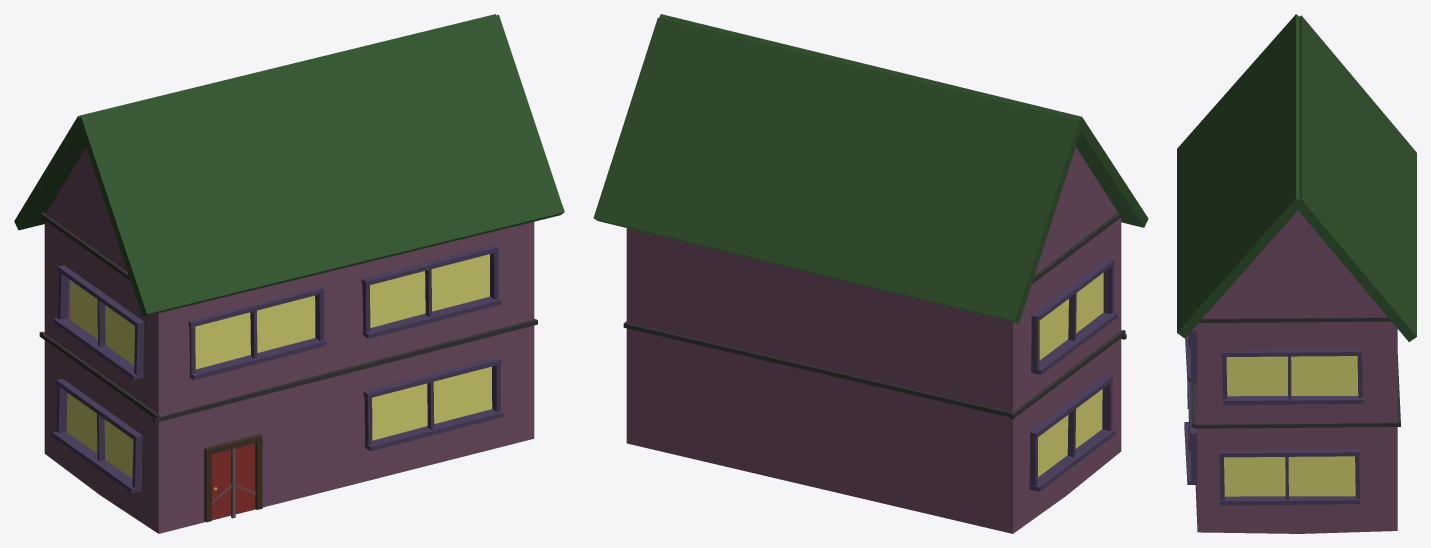
Rendered from House6.fbx.
3 renders of one model, left to right at view 1: azimuth 30°, elevation 25°; view 2: azimuth 150°, elevation 25°; view 3: azimuth 270°, elevation 25°, orthographic. The views are drawn at different scales.
Visible parts, largest first — view 1: Cube.005, Cube.001, Cube.058, Cube.055, Cube.054, Cube.004, Cube.009, Cube.043, Cube.012, Cube.042, Cube.050, Cube.045 (+10 smaller); view 2: Cube.001, Cube.004, Cube.005, Cube.015, Cube.042, Cube.043, Cube.020, Cube.032, Cube.031, Cube.019, Cube.016, Cube.017; view 3: Cube.001, Cube.005, Cube.004, Cube.040, Cube.041, Cube.024, Cube.028, Cube.023, Cube.027, Cube.014, Cube.018, Cube.045 (+1 smaller).
Boxes of the visible parts, left/top/right/bottom form: Cube.005: left=77, top=14, right=564, bottom=316; Cube.001: left=44, top=148, right=534, bottom=533; Cube.058: left=195, top=295, right=315, bottom=369; Cube.055: left=372, top=366, right=492, bottom=440; Cube.054: left=370, top=254, right=489, bottom=327; Cube.004: left=14, top=14, right=495, bottom=230; Cube.009: left=212, top=443, right=255, bottom=519; Cube.043: left=66, top=393, right=133, bottom=478; Cube.012: left=153, top=319, right=537, bottom=422; Cube.042: left=70, top=280, right=134, bottom=365; Cube.050: left=362, top=296, right=501, bottom=338; Cube.045: left=364, top=409, right=503, bottom=451; Cube.001: left=626, top=147, right=1121, bottom=533; Cube.004: left=593, top=18, right=1081, bottom=323; Cube.005: left=659, top=14, right=1148, bottom=227; Cube.015: left=624, top=322, right=1011, bottom=417; Cube.042: left=1039, top=273, right=1103, bottom=359; Cube.043: left=1038, top=389, right=1102, bottom=476; Cube.020: left=1029, top=429, right=1115, bottom=491; Cube.032: left=1031, top=312, right=1117, bottom=374; Cube.031: left=1031, top=258, right=1114, bottom=321; Cube.019: left=1030, top=375, right=1112, bottom=438; Cube.016: left=1010, top=330, right=1125, bottom=419; Cube.017: left=1031, top=212, right=1122, bottom=284; Cube.001: left=1194, top=210, right=1397, bottom=533; Cube.005: left=1177, top=14, right=1299, bottom=338; Cube.004: left=1294, top=15, right=1416, bottom=341; Cube.040: left=1224, top=456, right=1355, bottom=496; Cube.041: left=1226, top=356, right=1358, bottom=396; Cube.024: left=1220, top=496, right=1360, bottom=505; Cube.028: left=1223, top=396, right=1363, bottom=404; Cube.023: left=1219, top=449, right=1359, bottom=457; Cube.027: left=1221, top=349, right=1361, bottom=356; Cube.014: left=1194, top=422, right=1400, bottom=428; Cube.018: left=1198, top=317, right=1391, bottom=323; Cube.045: left=1184, top=422, right=1196, bottom=484.
Size of the model in its own units: 1401 by 1224 by 771.
